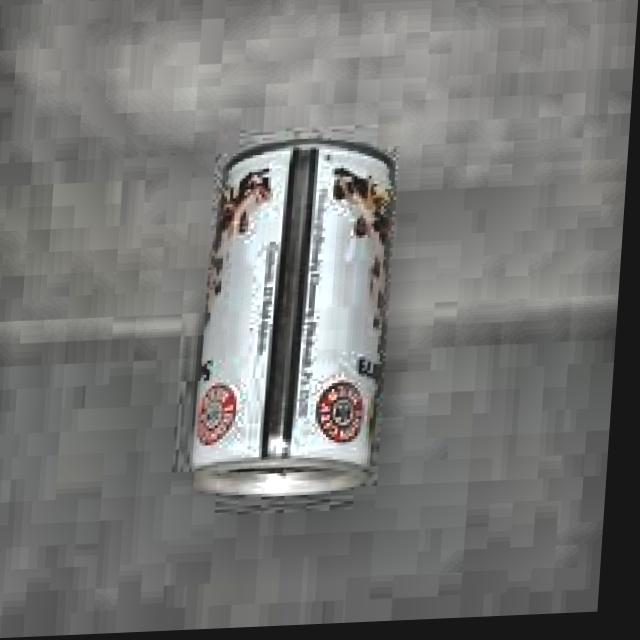can: (189, 138, 405, 509)
